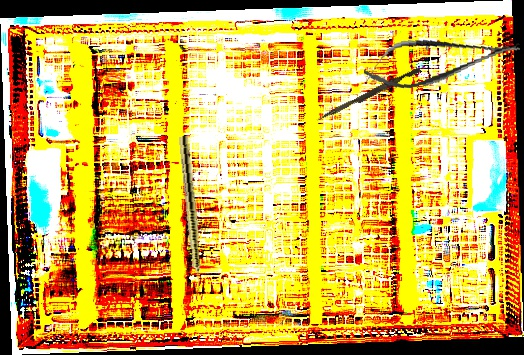Handpiece: (176, 135, 206, 297)
Micro Scissor: (360, 24, 524, 96)
Pusher: (315, 64, 422, 126)
